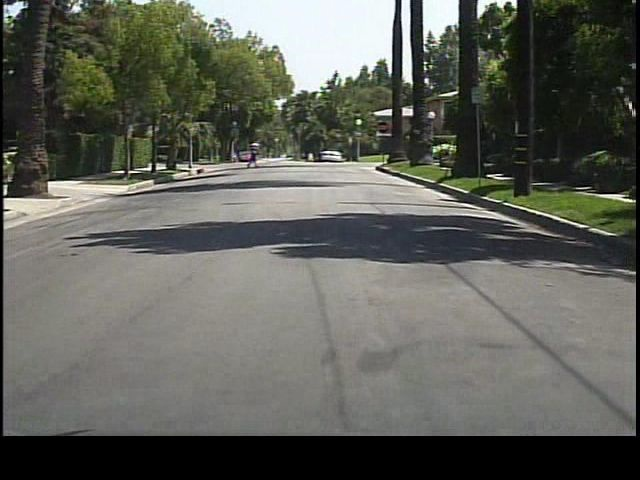person: (247, 138, 262, 169)
